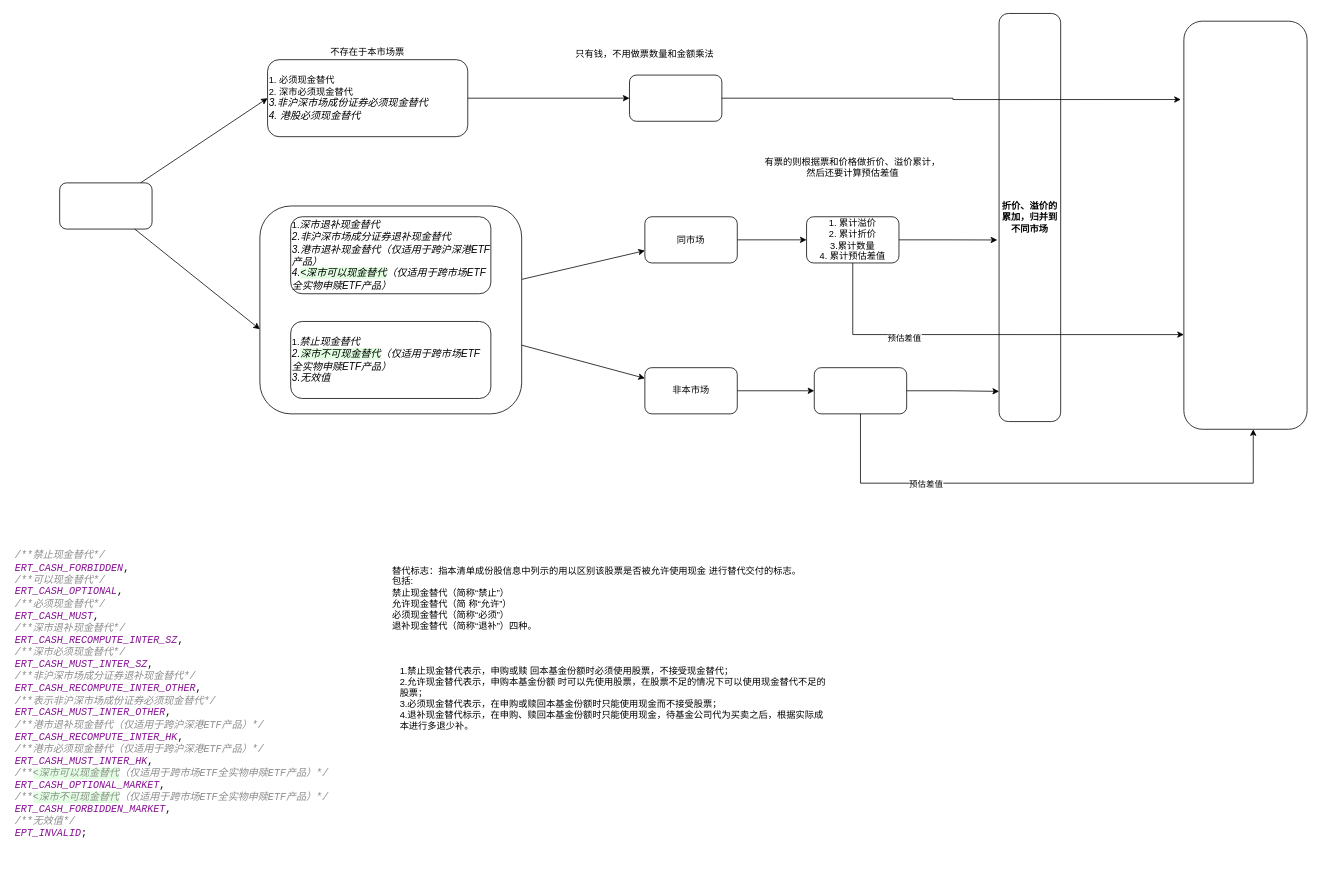
Image size: 1321x889. Some labels were removed from this diagram. Each missing label, with the centre of its shape:
"1. 累计溢价 2. 累计折价 3。累计预估现金差值" belongs at (860,390).
"ETF" belongs at (105,205).
"合并计算算法1， 计算出 estimateAmountDiff" belongs at (1245,224).
"累计预估差值" belongs at (675,97).
